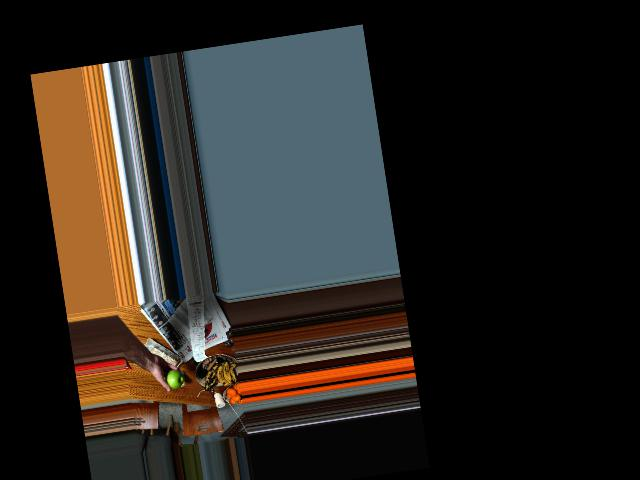apple: (160, 365, 186, 390)
